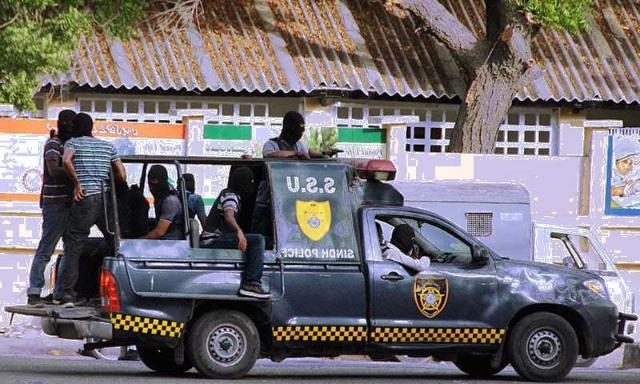police_car: (95, 153, 625, 371)
